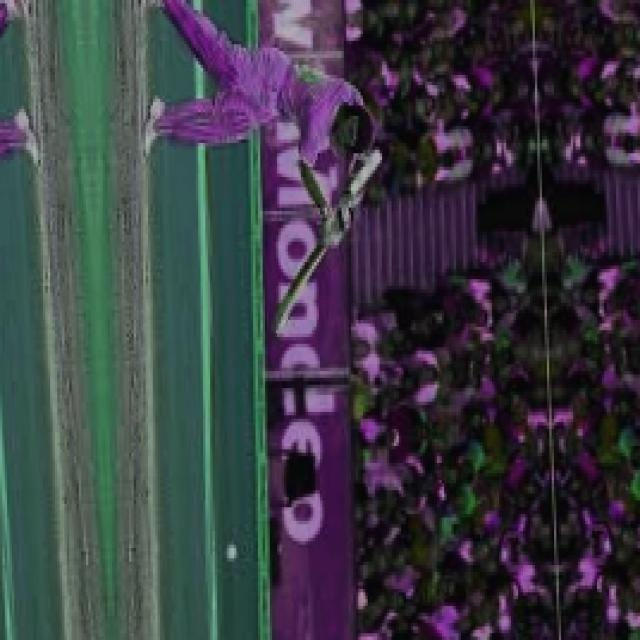bat: (263, 211, 330, 350)
toe: (271, 306, 293, 329)
